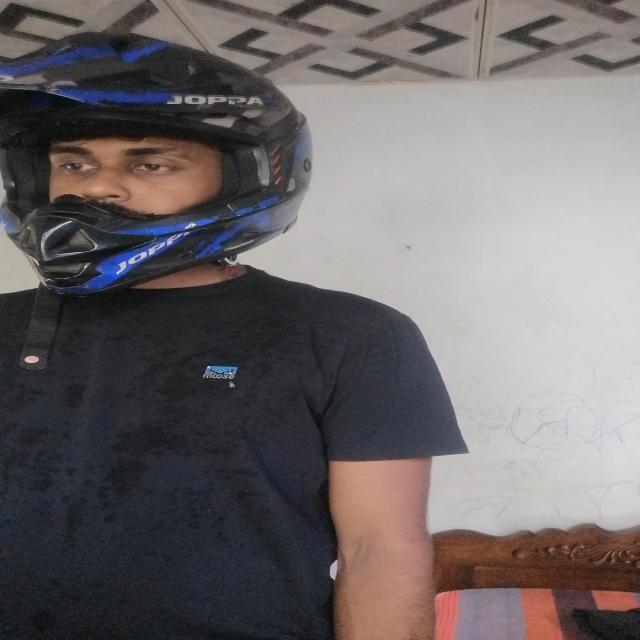Helmet_Wearer: (0, 31, 323, 292)
Person: (9, 30, 470, 640)
